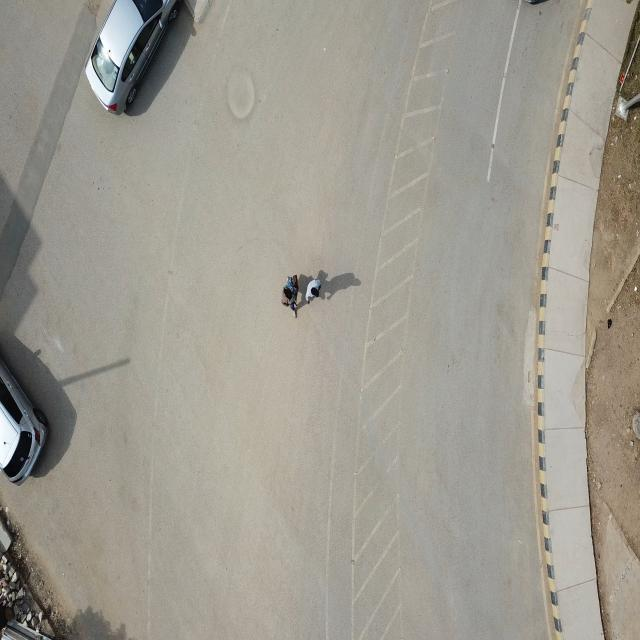Manusia: (282, 272, 300, 318), (306, 277, 322, 305)
